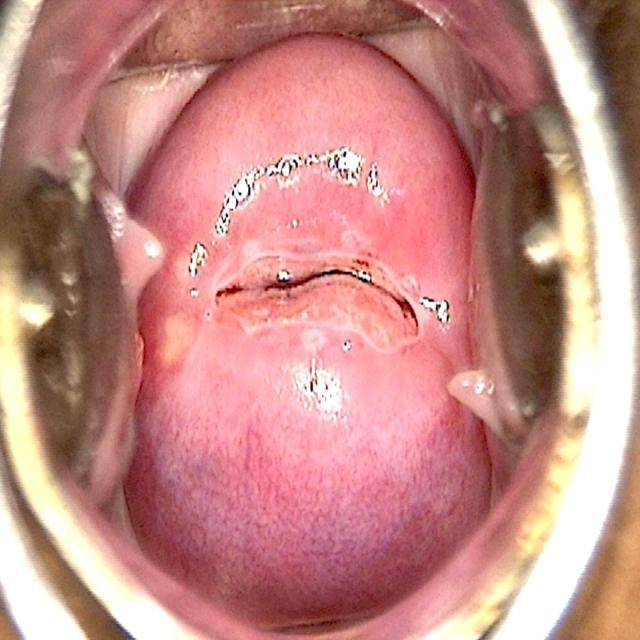cervical_lesion: (172, 119, 464, 441)
